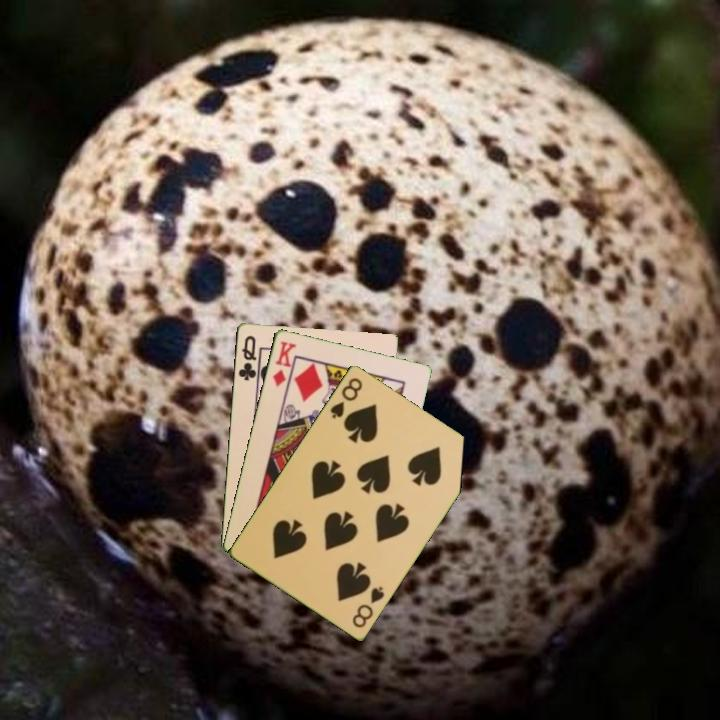8s: (348, 582, 387, 631), (326, 374, 365, 421)
Kd: (269, 337, 299, 389)
Qc: (234, 332, 259, 383)
